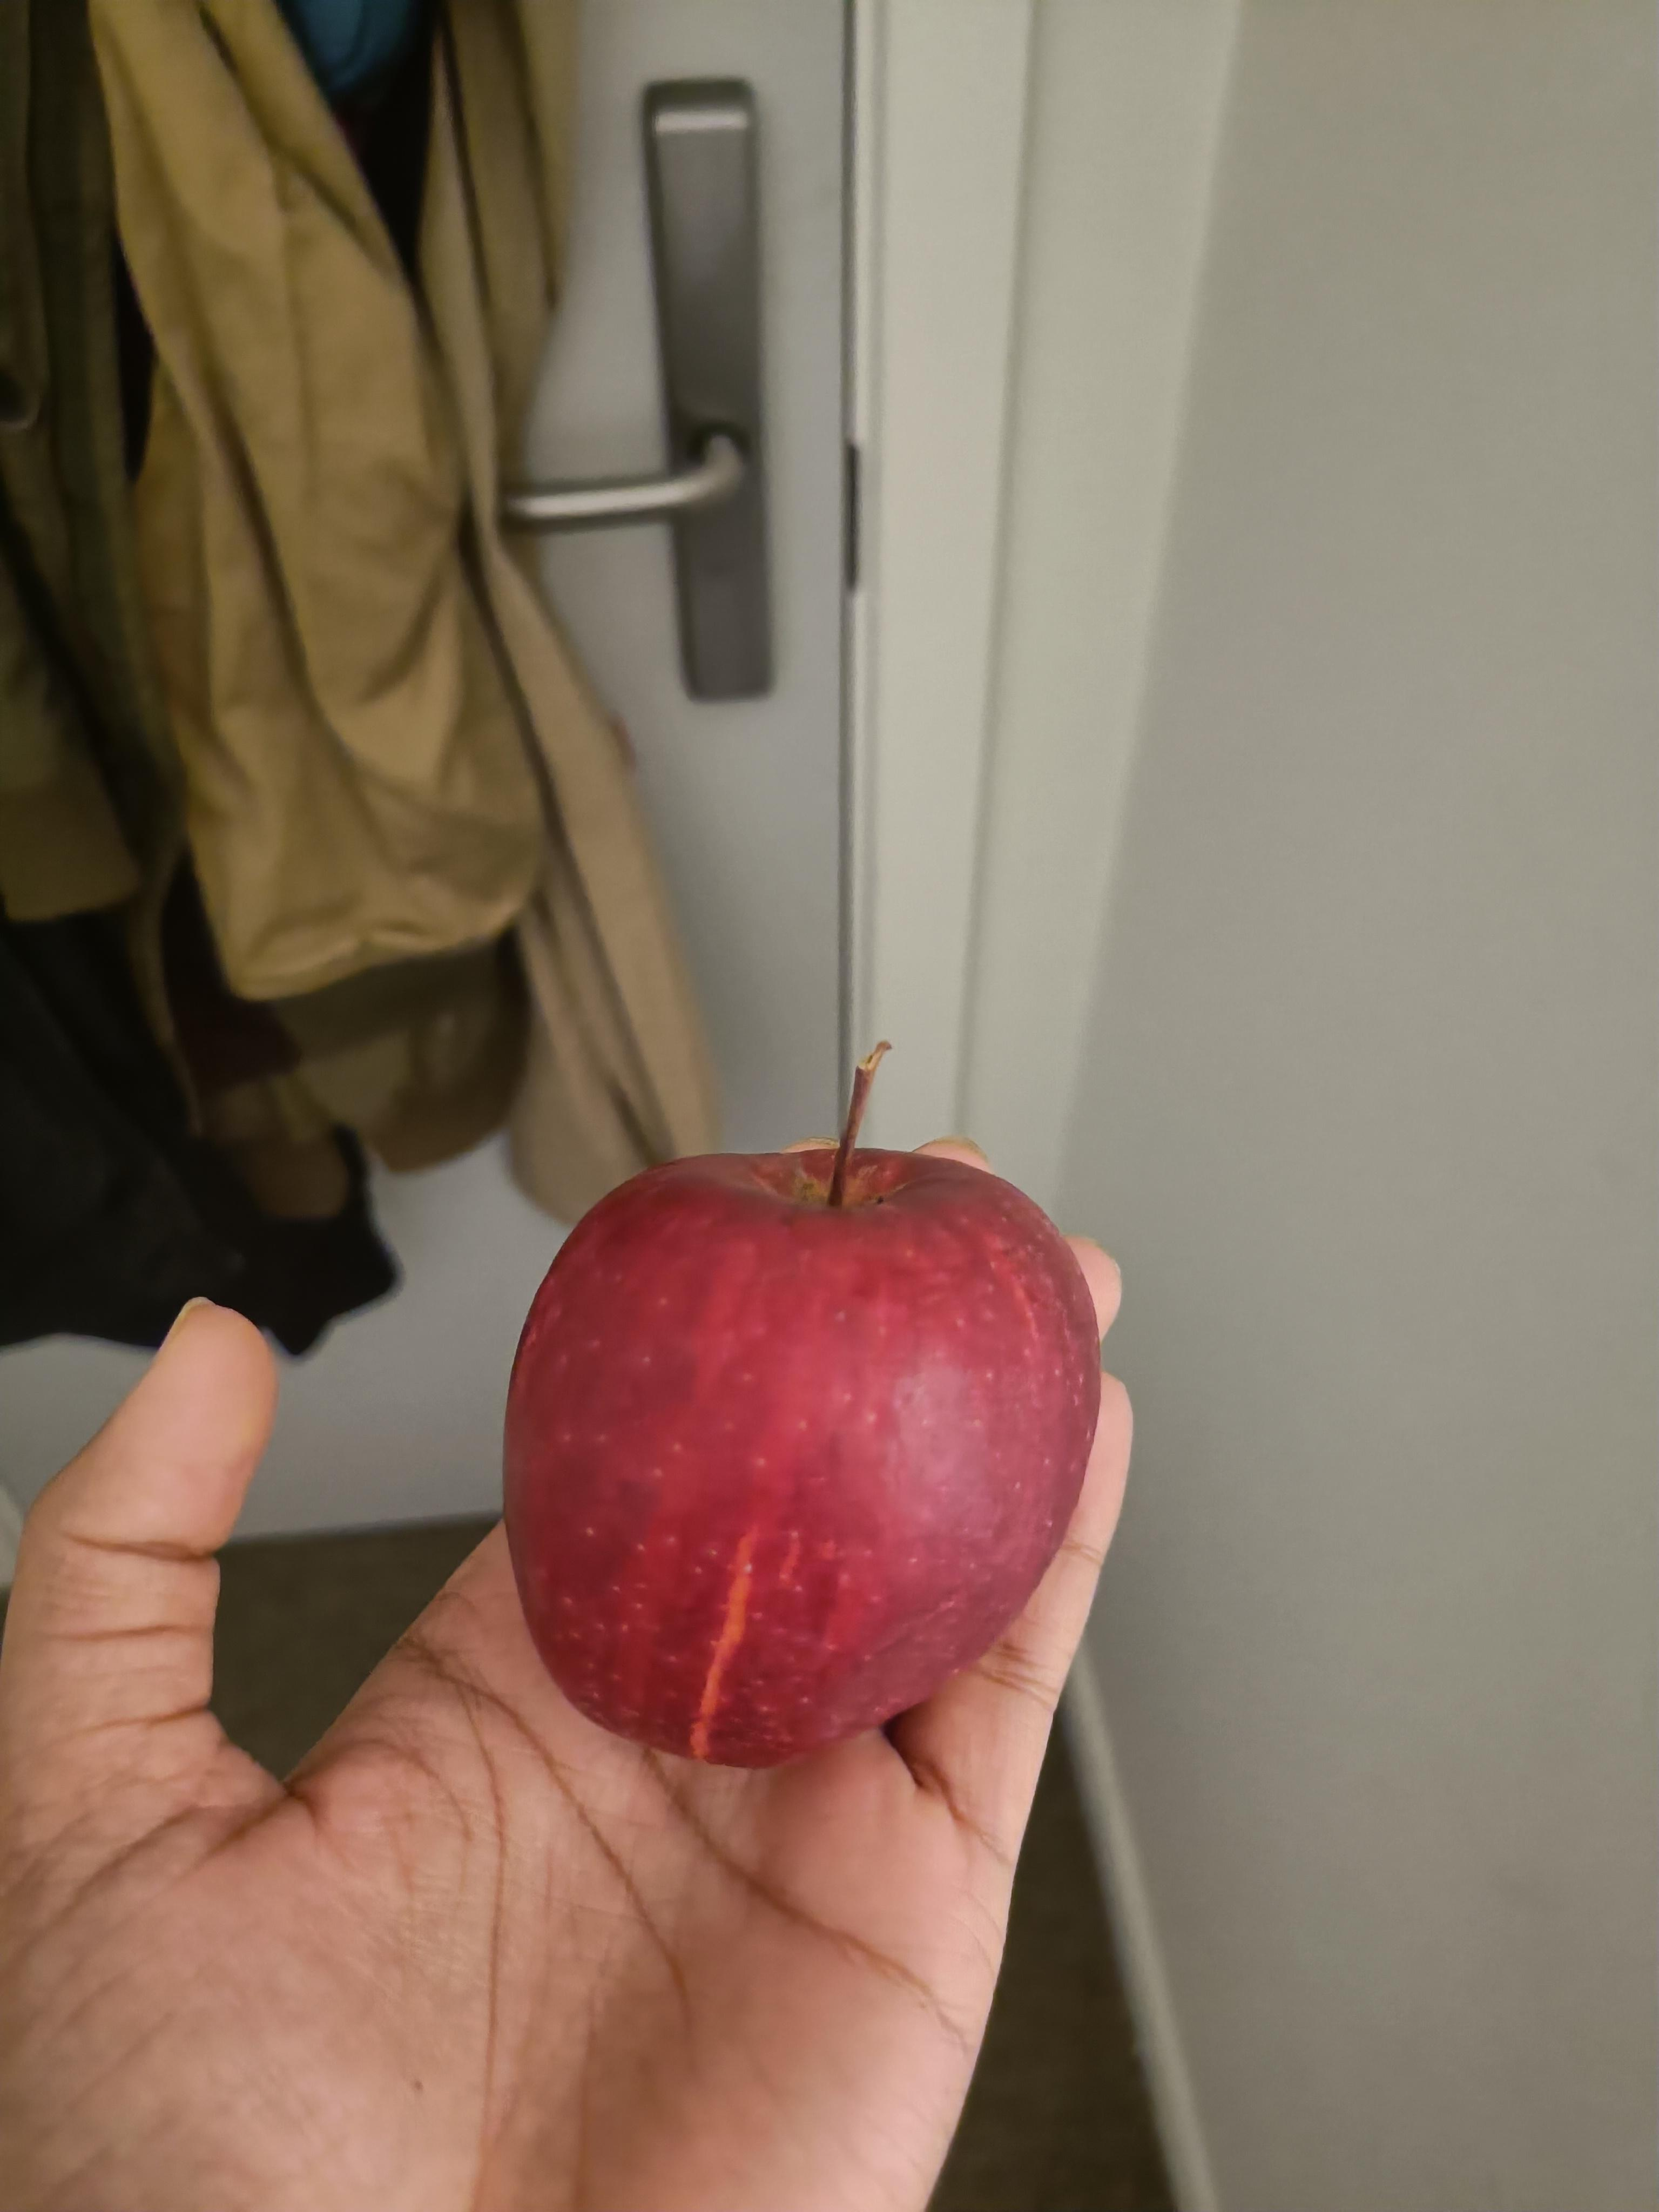Apple: (509, 1015, 1113, 1812)
